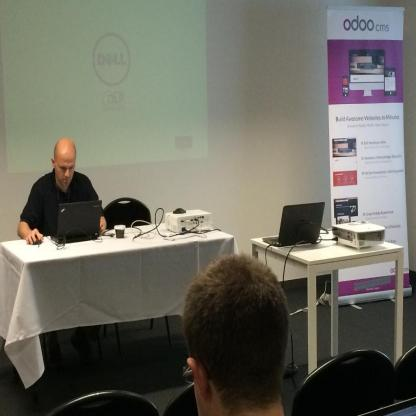board: (49, 200, 101, 243), (278, 198, 318, 252)
